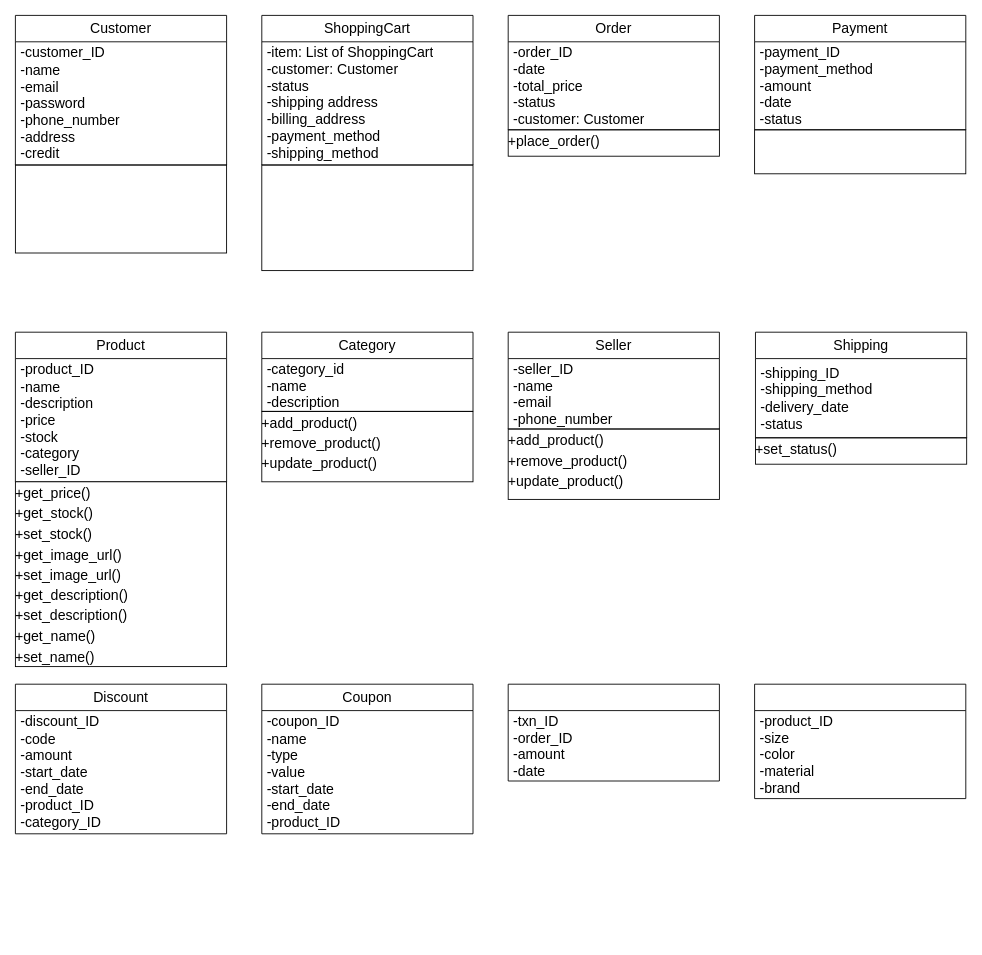
Some shapes in this 982 by 955 pixel diagram are drawn without their labels. Here are the shapes that lost their labels. From the top down, the box of each, then its label:
(754, 129, 966, 174): +make_payment() +cancel_payment()
(15, 164, 227, 253): +login() +logout() +register() +update_info()
(261, 164, 473, 271): +add_item() +remove_item() +update_item() +get_total() +get_items()
(507, 683, 719, 781): Transaction
(754, 683, 966, 799): Clothing
